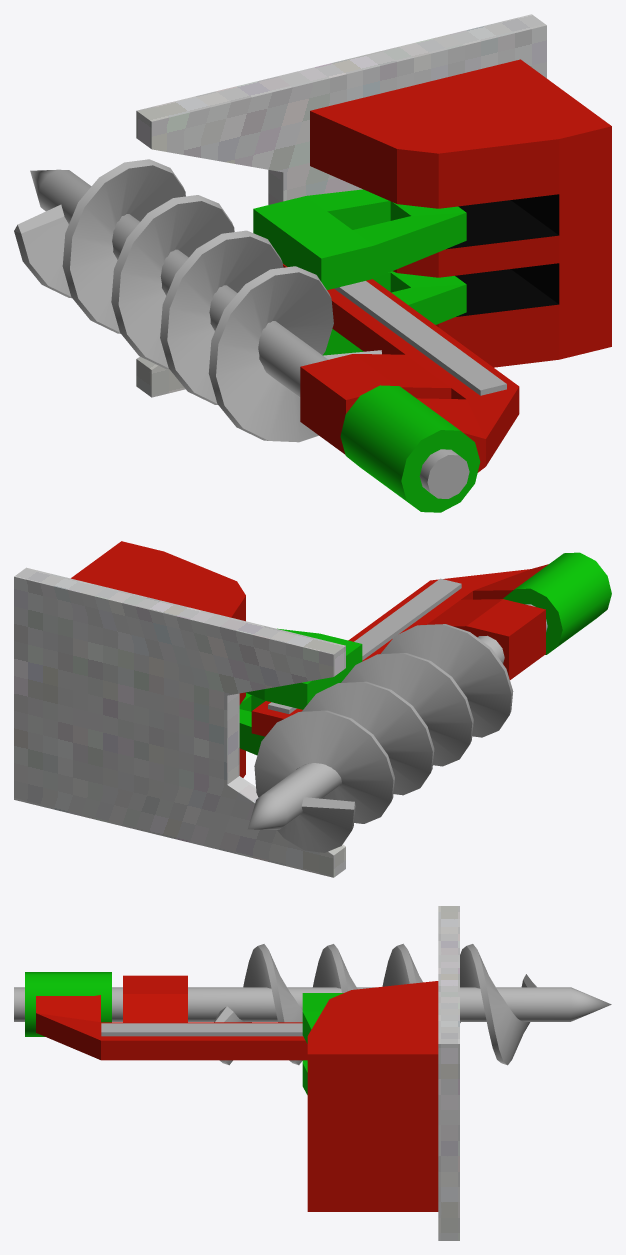
File: drill.gltf
3 renders of one model, top to bottom at view 1: azimuth 30°, elevation 25°; view 2: azimuth 150°, elevation 25°; view 3: azimuth 270°, elevation 25°, orthographic. The views are drawn at different scales.
Visible parts, largest first — view 1: Cube, Plane.001, Cube.003, Cube.002, Cube.001, Cylinder.004, Plane.002, Cube.004, Cube.005, Cube.006, Cube.000; view 2: Cube.003, Plane.001, Cube.002, Cube, Cylinder.004, Plane.002, Cube.004, Cube.001, Cube.000; view 3: Cube, Cube.002, Plane.002, Plane.001, Cube.003, Cylinder.004, Cube.004, Cube.001.
Part boxes in pixels (x1,y1,x2,y2): Cube: (310, 59, 611, 367); Plane.001: (14, 159, 333, 442); Cube.003: (136, 14, 546, 397); Cube.002: (283, 264, 519, 472); Cube.001: (253, 189, 466, 289); Cylinder.004: (340, 385, 480, 512); Plane.002: (14, 169, 469, 498); Cube.004: (334, 281, 506, 395); Cube.005: (446, 194, 559, 249); Cube.006: (455, 263, 559, 316); Cube.000: (322, 271, 466, 355); Cube.003: (14, 567, 345, 877); Plane.001: (254, 624, 513, 852); Cube.002: (251, 564, 548, 736); Cube: (71, 541, 245, 777); Cylinder.004: (503, 552, 611, 654); Plane.002: (248, 604, 547, 829); Cube.004: (268, 578, 461, 713); Cube.001: (245, 628, 362, 709); Cube.000: (239, 693, 265, 755); Cube: (307, 981, 438, 1211); Cube.002: (36, 975, 307, 1060); Plane.002: (14, 974, 611, 1022); Plane.001: (219, 943, 530, 1065); Cube.003: (438, 906, 459, 1240); Cylinder.004: (25, 972, 111, 1036); Cube.004: (101, 1023, 302, 1036); Cube.001: (302, 993, 343, 1043).
Size of the model in its own units: 1.78 by 1 by 2.75.
Materials: 5 (1 with a texture image).
